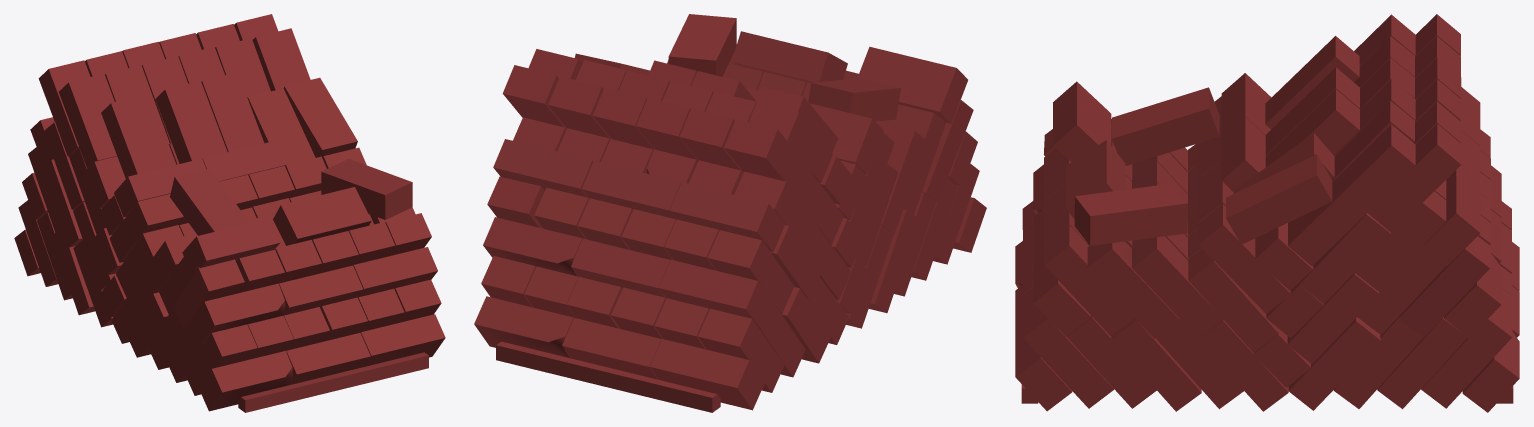
The model's file is SM_BricksPack05.fbx.
3 views of the same model, side by side, from view 1: azimuth 30°, elevation 25°; view 2: azimuth 150°, elevation 25°; view 3: azimuth 270°, elevation 25° (orthographic). The views are drawn at different scales.
Parts seen in each view (by area): view 1: BricksPack05; view 2: BricksPack05; view 3: BricksPack05.
Boxes of the visible parts, x1,y1,x2,y2 form: BricksPack05: (14,14,445,412); BricksPack05: (474,14,986,412); BricksPack05: (1015,14,1519,412).
Bounding box in the file's own units: 77.17 × 72.19 × 123.
